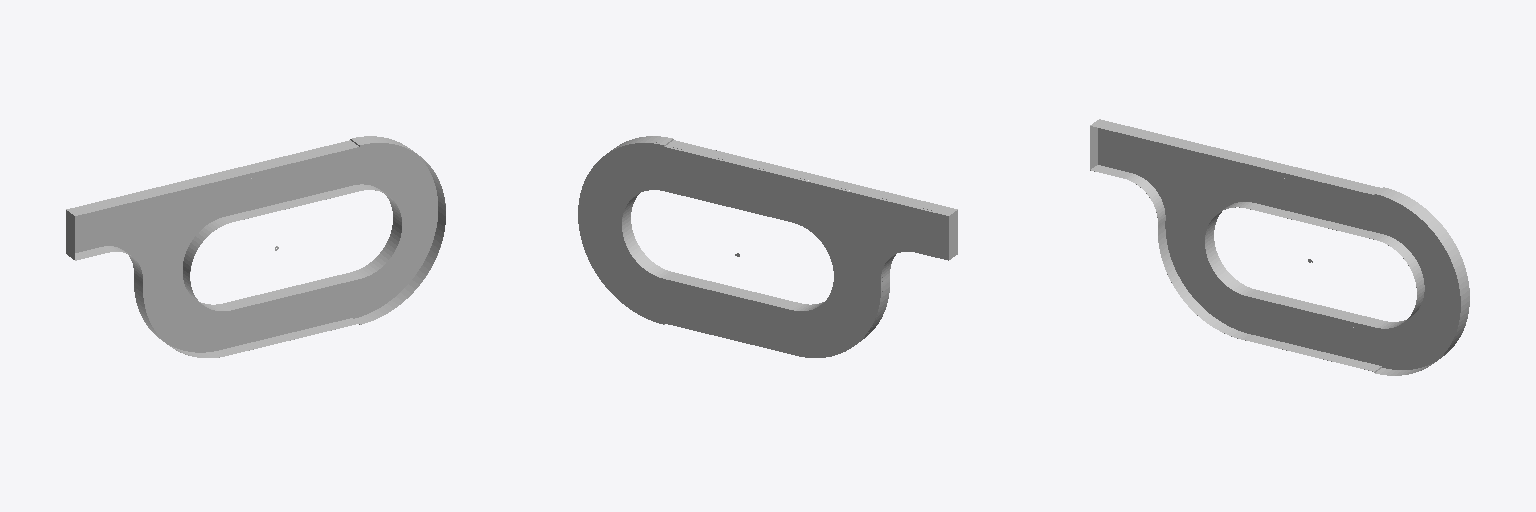
The model's file is Full Oval Export Testing v2.obj.
3 views of the same model, side by side, from view 1: azimuth 30°, elevation 25°; view 2: azimuth 150°, elevation 25°; view 3: azimuth 330°, elevation 25° (orthographic).
Visible parts, largest first — view 1: Body1:2, Body1 (1), Body2, Body4:1, Body3:1, Body1; view 2: Body1:2, Body1 (1), Body3:1, Body4:1, Body2, Body1; view 3: Body1:2, Body1 (1), Body2, Body4:1, Body3:1, Body1.
Part boxes in pixels (x1,y1,x2,y2): Body1:2: (66, 171, 223, 352); Body1 (1): (350, 136, 437, 318); Body2: (67, 137, 445, 357); Body4:1: (223, 272, 351, 348); Body3:1: (223, 140, 351, 216); Body1: (183, 184, 401, 310); Body1:2: (792, 177, 949, 357); Body1 (1): (578, 142, 665, 324); Body3:1: (664, 146, 792, 221); Body4:1: (664, 278, 792, 354); Body2: (607, 136, 957, 341); Body1: (623, 193, 823, 309); Body1:2: (1098, 119, 1255, 334); Body1 (1): (1382, 187, 1469, 369); Body2: (1090, 120, 1468, 375); Body4:1: (1254, 290, 1382, 365); Body3:1: (1254, 157, 1381, 233); Body1: (1205, 202, 1424, 328).
Size of the model in its own units: 7.09 by 3.28 by 0.3078.